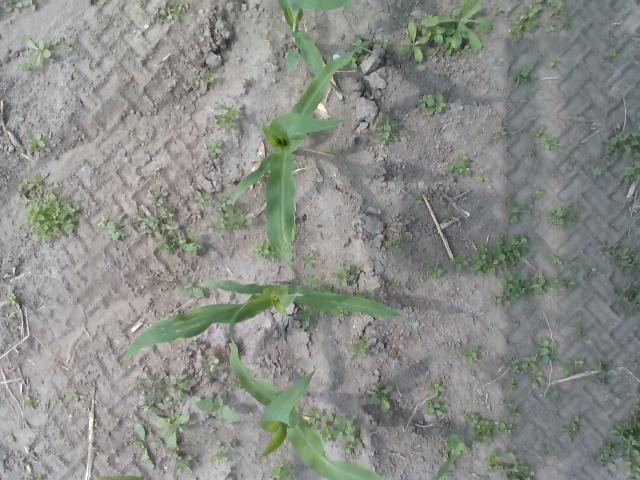Maize: (227, 45, 373, 288), (122, 276, 422, 376), (222, 297, 385, 480), (276, 0, 348, 100)
Weeds: (18, 172, 82, 246), (422, 0, 492, 59), (132, 202, 203, 256), (470, 234, 529, 276), (136, 372, 192, 414), (317, 414, 364, 454), (500, 270, 550, 306), (610, 396, 640, 456), (148, 410, 191, 450), (212, 194, 252, 236), (597, 242, 640, 275), (398, 20, 431, 62), (460, 410, 494, 448), (509, 3, 541, 43), (133, 423, 160, 470), (20, 35, 52, 71), (195, 392, 236, 420), (603, 128, 640, 154), (340, 38, 369, 70), (164, 276, 206, 298), (440, 432, 468, 464), (98, 212, 128, 241), (612, 285, 640, 316), (592, 439, 618, 472), (157, 0, 190, 25), (375, 114, 400, 146), (506, 192, 531, 224), (546, 0, 572, 30), (560, 412, 586, 442), (546, 206, 580, 228), (368, 385, 393, 414), (214, 103, 240, 130), (533, 336, 558, 364), (332, 262, 361, 286), (504, 459, 536, 480), (419, 93, 448, 116), (594, 357, 612, 392), (446, 152, 471, 176), (346, 336, 369, 361), (254, 236, 276, 262), (146, 184, 170, 207), (172, 452, 194, 476), (210, 442, 234, 464), (295, 306, 317, 330), (493, 417, 518, 437), (624, 152, 640, 182), (560, 358, 586, 376), (25, 131, 47, 152), (502, 398, 523, 420), (484, 451, 504, 474), (271, 460, 294, 480), (514, 65, 538, 84), (422, 399, 448, 416), (3, 0, 35, 13), (550, 278, 578, 292), (538, 135, 562, 151), (449, 250, 468, 270), (206, 138, 227, 156), (204, 354, 220, 377), (384, 235, 404, 253), (624, 458, 640, 480), (192, 190, 210, 208), (532, 370, 550, 388), (428, 379, 446, 397), (572, 322, 588, 342), (300, 251, 316, 270), (462, 346, 478, 363), (501, 377, 517, 394), (522, 356, 538, 372), (306, 409, 322, 425), (24, 392, 39, 409), (56, 38, 74, 52), (428, 264, 443, 279), (546, 54, 561, 68), (330, 307, 349, 318), (509, 358, 522, 374), (530, 124, 546, 137), (377, 34, 391, 48), (3, 292, 17, 306), (550, 252, 564, 266), (202, 70, 218, 82), (568, 260, 582, 273), (410, 194, 422, 209), (492, 6, 506, 18), (544, 20, 556, 34), (478, 170, 491, 182), (496, 127, 508, 138), (541, 443, 554, 453), (532, 192, 545, 202), (314, 308, 328, 317), (308, 274, 318, 286), (492, 295, 502, 307), (548, 388, 560, 398), (365, 290, 375, 301), (232, 381, 244, 390), (320, 283, 332, 291), (584, 266, 596, 274), (333, 148, 345, 156), (608, 48, 617, 58), (592, 167, 602, 176), (388, 278, 399, 286), (502, 450, 514, 457), (354, 290, 364, 298), (8, 434, 16, 444), (439, 473, 450, 480), (30, 476, 44, 480), (190, 340, 197, 348), (570, 156, 576, 165), (74, 394, 80, 402), (294, 162, 302, 168), (438, 155, 444, 161), (87, 0, 92, 5), (536, 0, 544, 3)
